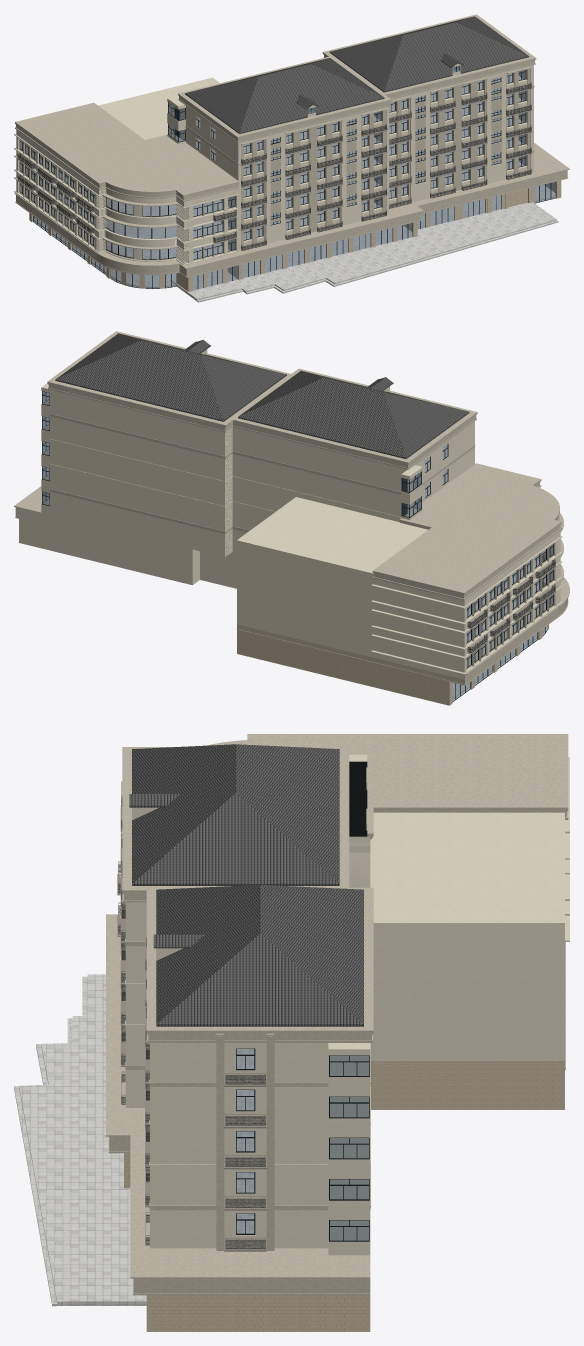
The model's file is gzl_213.FBX.
The picture shows the model from 3 angles, top to bottom: view 1: azimuth 30°, elevation 25°; view 2: azimuth 150°, elevation 25°; view 3: azimuth 270°, elevation 25°; orthographic projection. The views are drawn at different scales.
Parts seen in each view (by area): view 1: gzl_213; view 2: gzl_213; view 3: gzl_213.
Part boxes in pixels (<box>): gzl_213: <box>14,14,569,302</box>; gzl_213: <box>14,331,569,705</box>; gzl_213: <box>14,734,569,1331</box>.
Bounding box in the file's own units: 60000 × 22325 × 34277.
